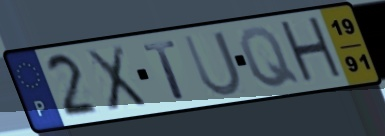2: (45, 51, 104, 121)
H: (275, 13, 348, 88)
Q: (236, 24, 303, 90)
T: (140, 38, 189, 103)
U: (180, 28, 244, 99)
X: (82, 42, 150, 115)
